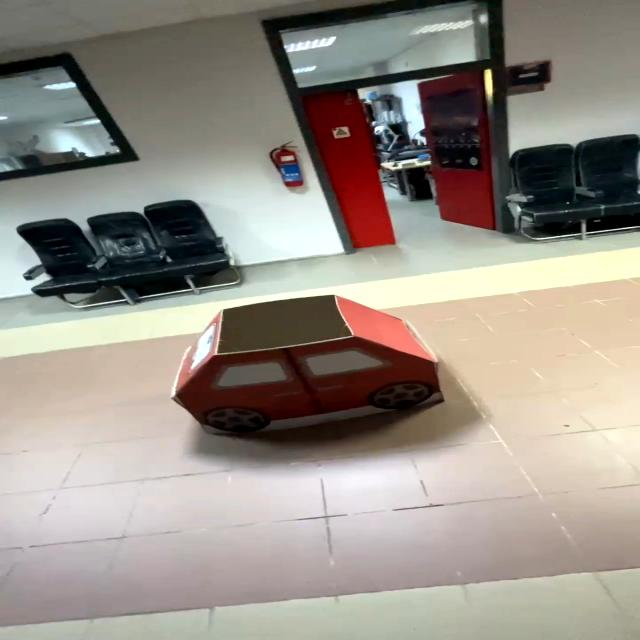red_car: (112, 277, 499, 452)
